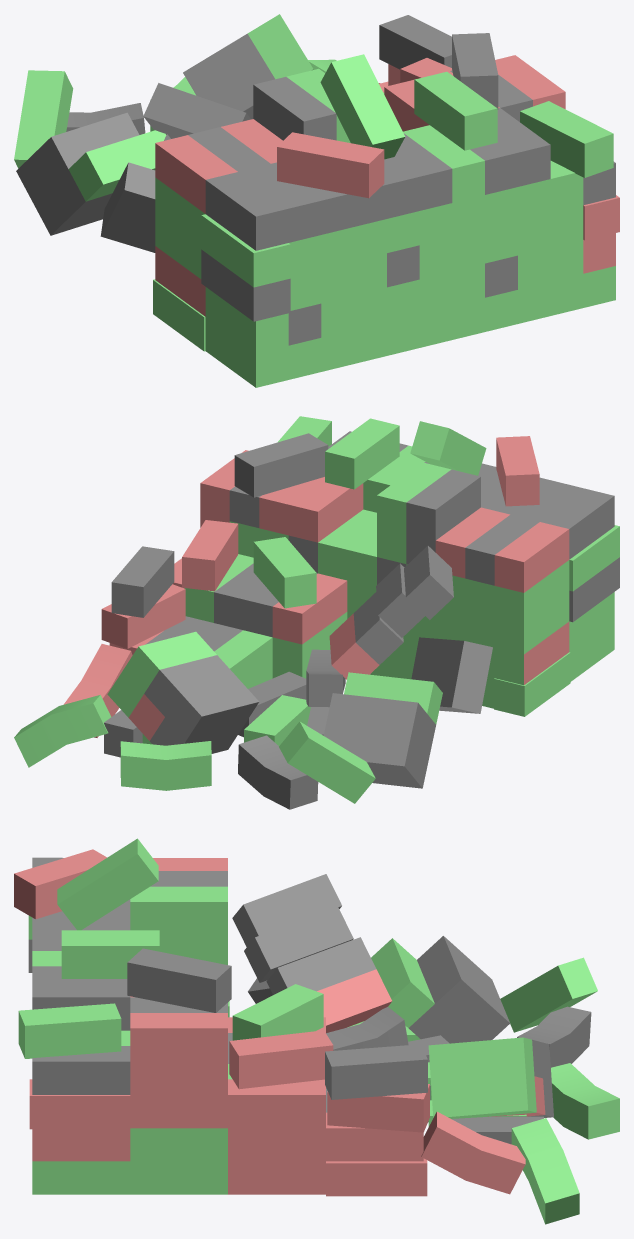
File: S_Envi_Olgk_Freighter_01g.gltf
The picture shows the model from 3 angles, top to bottom: view 1: azimuth 30°, elevation 25°; view 2: azimuth 150°, elevation 25°; view 3: azimuth 270°, elevation 25°; orthographic projection. The views are drawn at different scales.
Visible parts, largest first — view 1: S_Envi_Olgk_Freighter_01g; view 2: S_Envi_Olgk_Freighter_01g; view 3: S_Envi_Olgk_Freighter_01g.
Boxes of the visible parts, box(x1,y1,x2,y2) form: S_Envi_Olgk_Freighter_01g: box(14, 14, 619, 387); S_Envi_Olgk_Freighter_01g: box(14, 416, 619, 809); S_Envi_Olgk_Freighter_01g: box(14, 838, 619, 1224).
Size of the model in its own units: 36.67 by 24.14 by 49.54.
